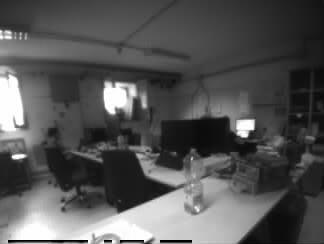Bottle: (182, 149, 204, 213)
